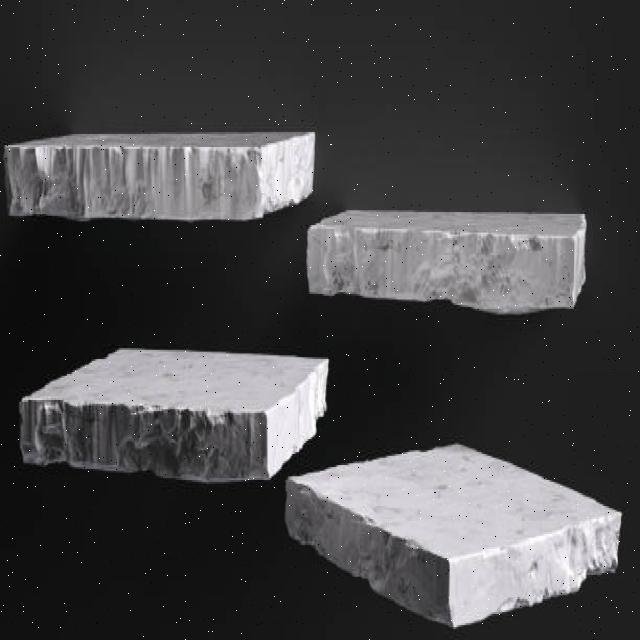Metamorphic: (284, 432, 624, 625), (18, 328, 325, 478), (5, 104, 317, 227), (300, 206, 594, 307)
